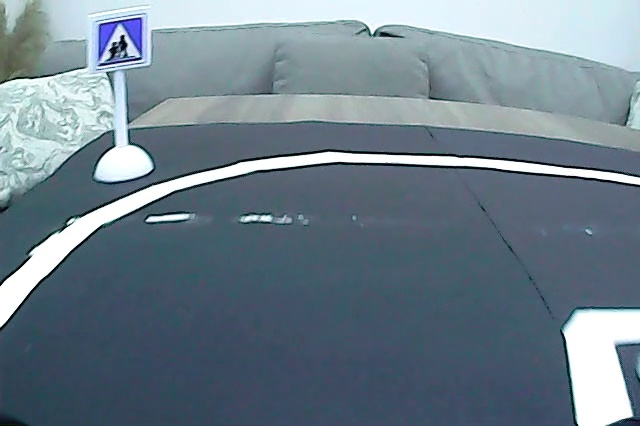school crossing: (94, 11, 147, 69)
